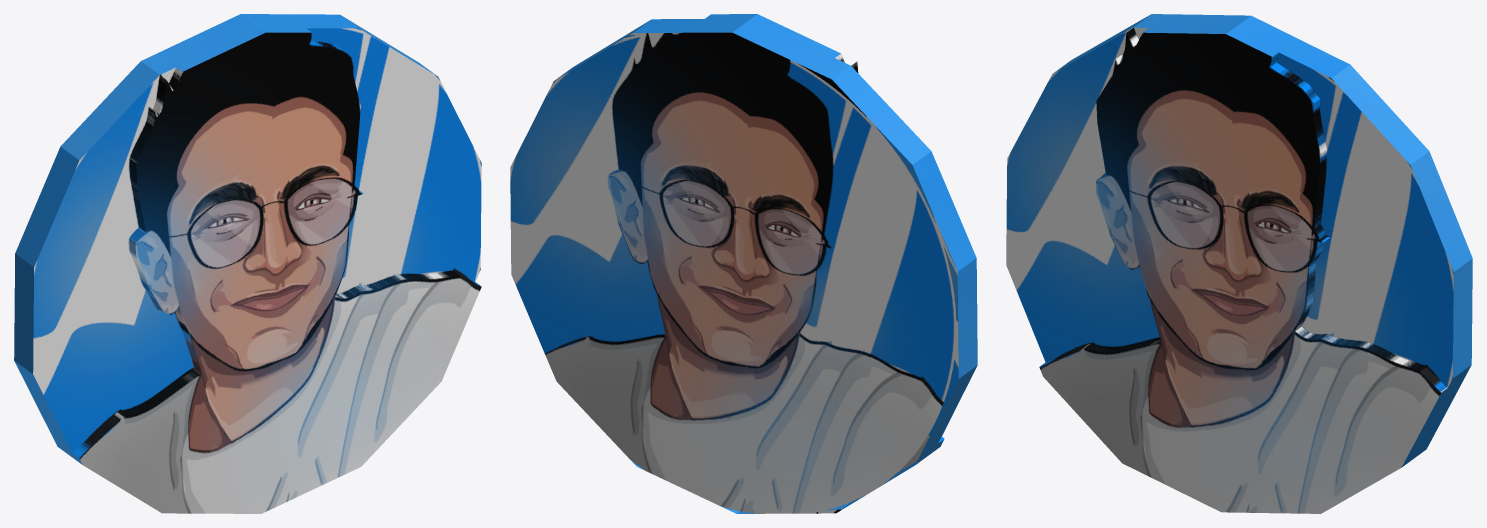
Rendered from SkinnyDevCircle.fbx.
The picture shows the model from 3 angles, left to right: view 1: azimuth 30°, elevation 25°; view 2: azimuth 150°, elevation 25°; view 3: azimuth 330°, elevation 25°; orthographic projection.
Visible parts, largest first — view 1: SkinnyDev_Circle; view 2: SkinnyDev_Circle; view 3: SkinnyDev_Circle.
Boxes of the visible parts, x1,y1,x2,y2 form: SkinnyDev_Circle: [14, 14, 481, 513]; SkinnyDev_Circle: [510, 14, 977, 513]; SkinnyDev_Circle: [1006, 14, 1472, 513].
Size of the model in its own units: 1.95 by 2 by 0.1912.
